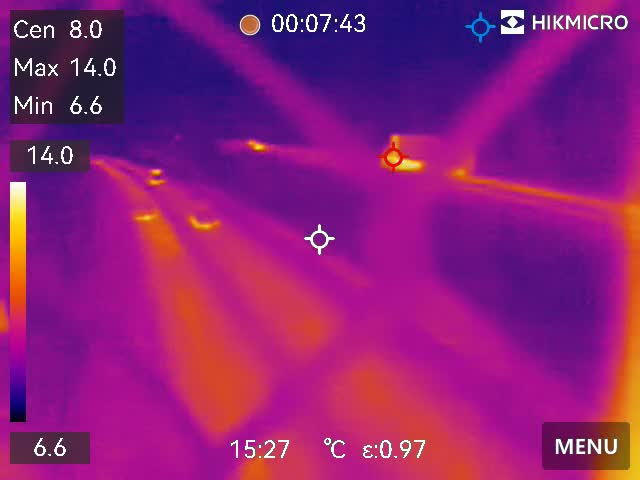heavyTruck: (380, 132, 476, 176)
